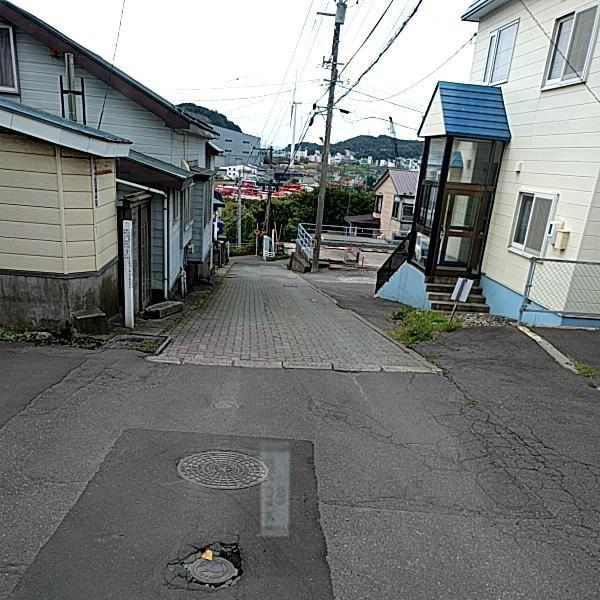pothole: (185, 543, 241, 585)
